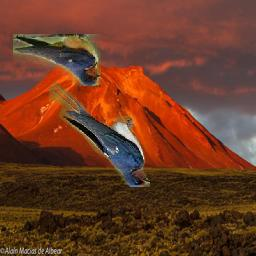Swallow: (50, 81, 151, 187), (13, 34, 101, 86)
